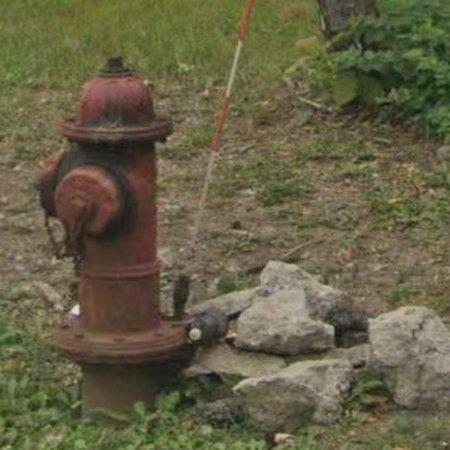a fire hydrant: (38, 58, 187, 414)
